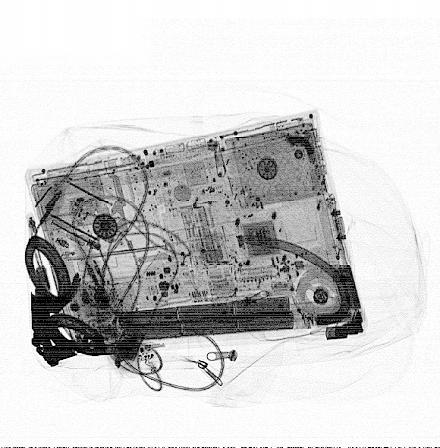HandCuffs: (23, 234, 106, 368)
